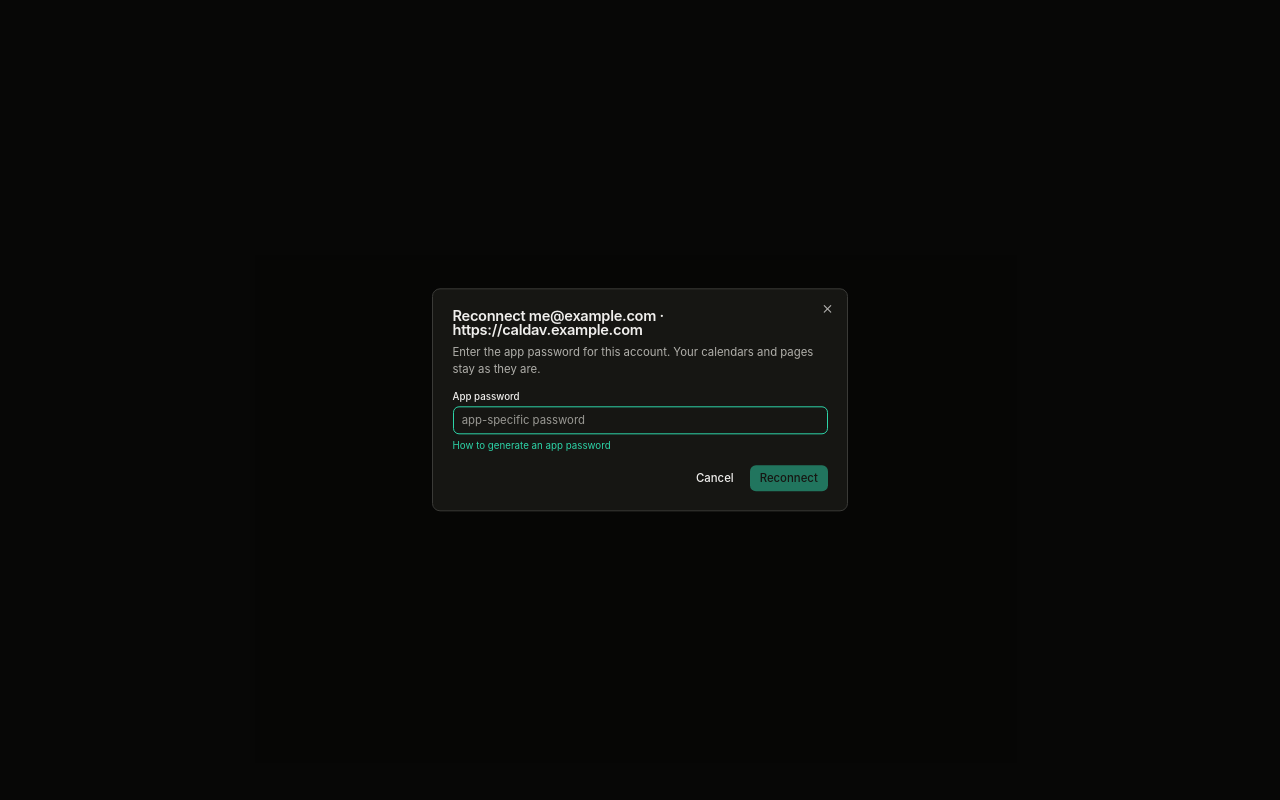
Test case: ReconnectAccountDialog › stays open and shows the failure when the password is rejected
Type "wrong" into the password field labelled "App password".
click(640, 420); type("wrong")  # box [452, 406, 828, 434]
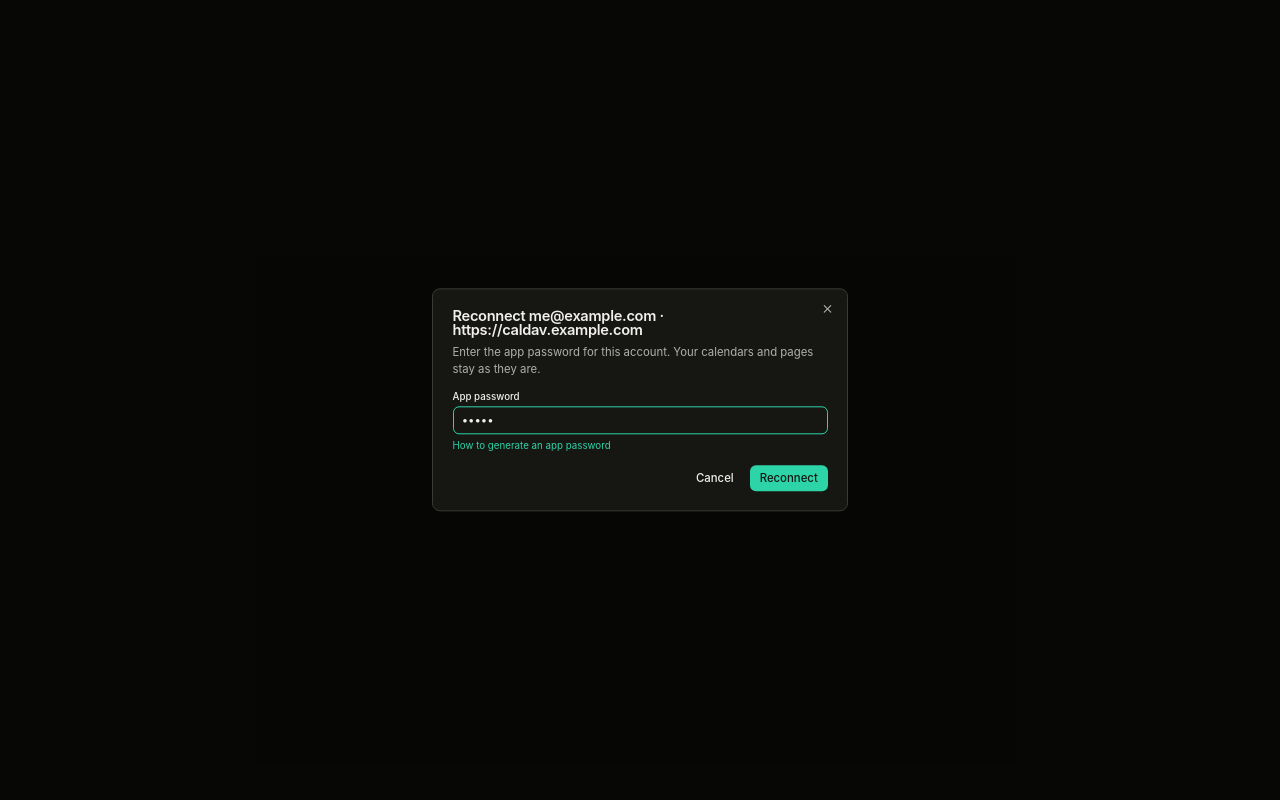
Click the button "Reconnect".
click(789, 478)  # box [750, 465, 828, 491]
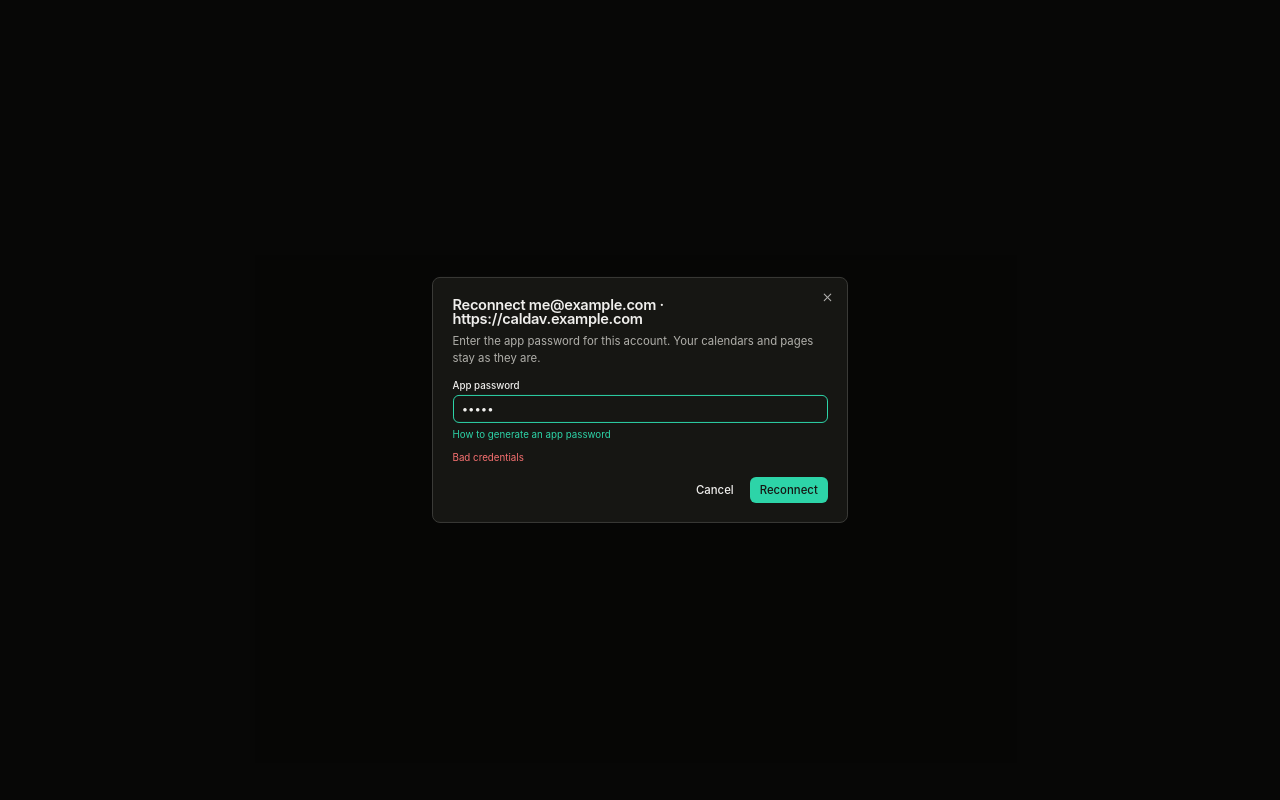
expect the text "Bad credentials" is shown: met, box [452, 452, 524, 463]
